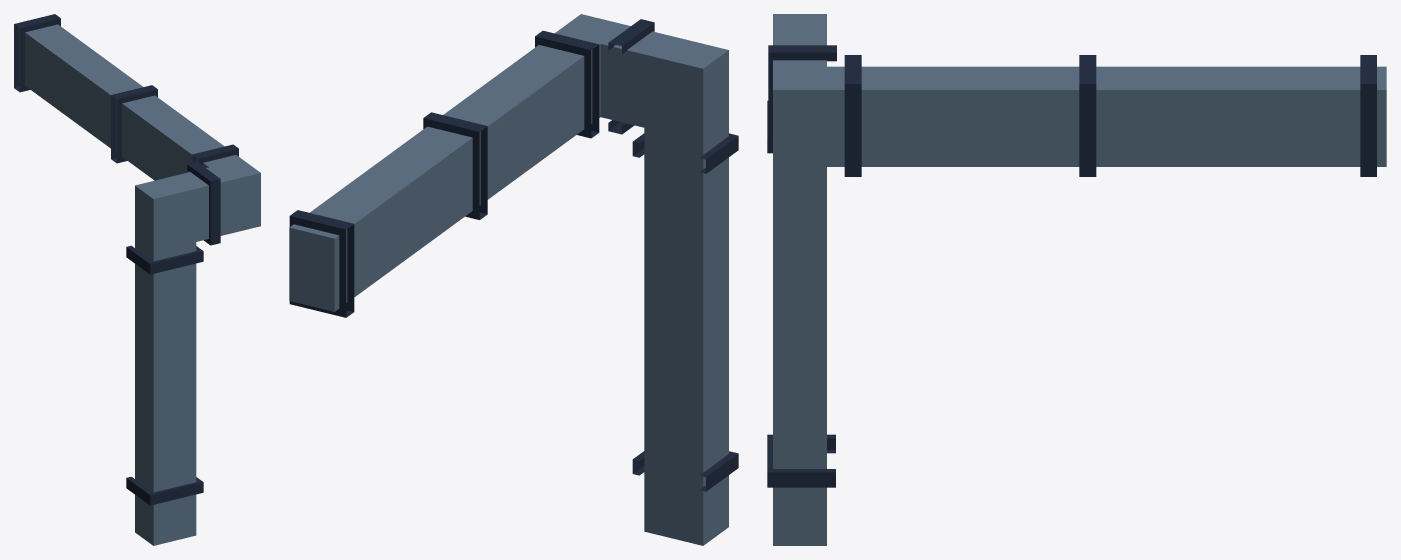
File: Blockout_Prop_Vent_03.FBX
3 renders of one model, left to right at view 1: azimuth 30°, elevation 25°; view 2: azimuth 150°, elevation 25°; view 3: azimuth 270°, elevation 25°, orthographic. The views are drawn at different scales.
Parts seen in each view (by area): view 1: Blockout_Prop_Vent_03; view 2: Blockout_Prop_Vent_03; view 3: Blockout_Prop_Vent_03.
Boxes of the visible parts, box(x1,y1,x2,y2) form: Blockout_Prop_Vent_03: box(14, 14, 260, 545); Blockout_Prop_Vent_03: box(289, 14, 738, 545); Blockout_Prop_Vent_03: box(767, 14, 1386, 545).
Bounding box in the file's own units: 266 × 774 × 852.
